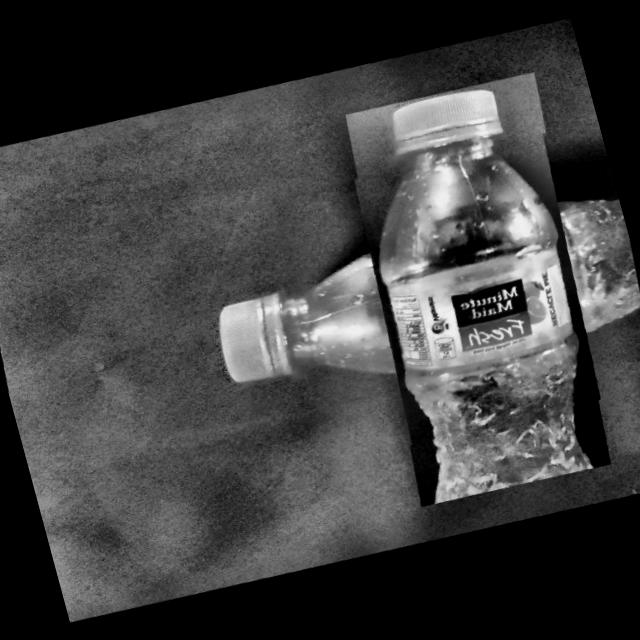Plastic-Bottle: (254, 109, 640, 478)
